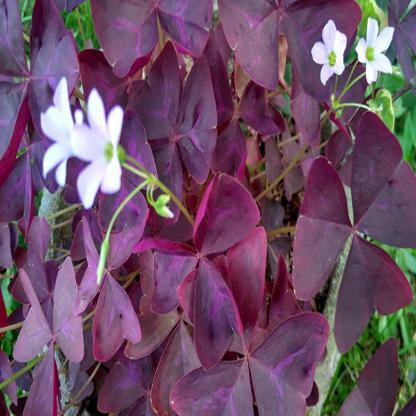Kupu-Kupu: (293, 123, 416, 332), (149, 169, 261, 340), (181, 287, 322, 416), (1, 263, 93, 416), (77, 196, 156, 363), (140, 48, 214, 186)
